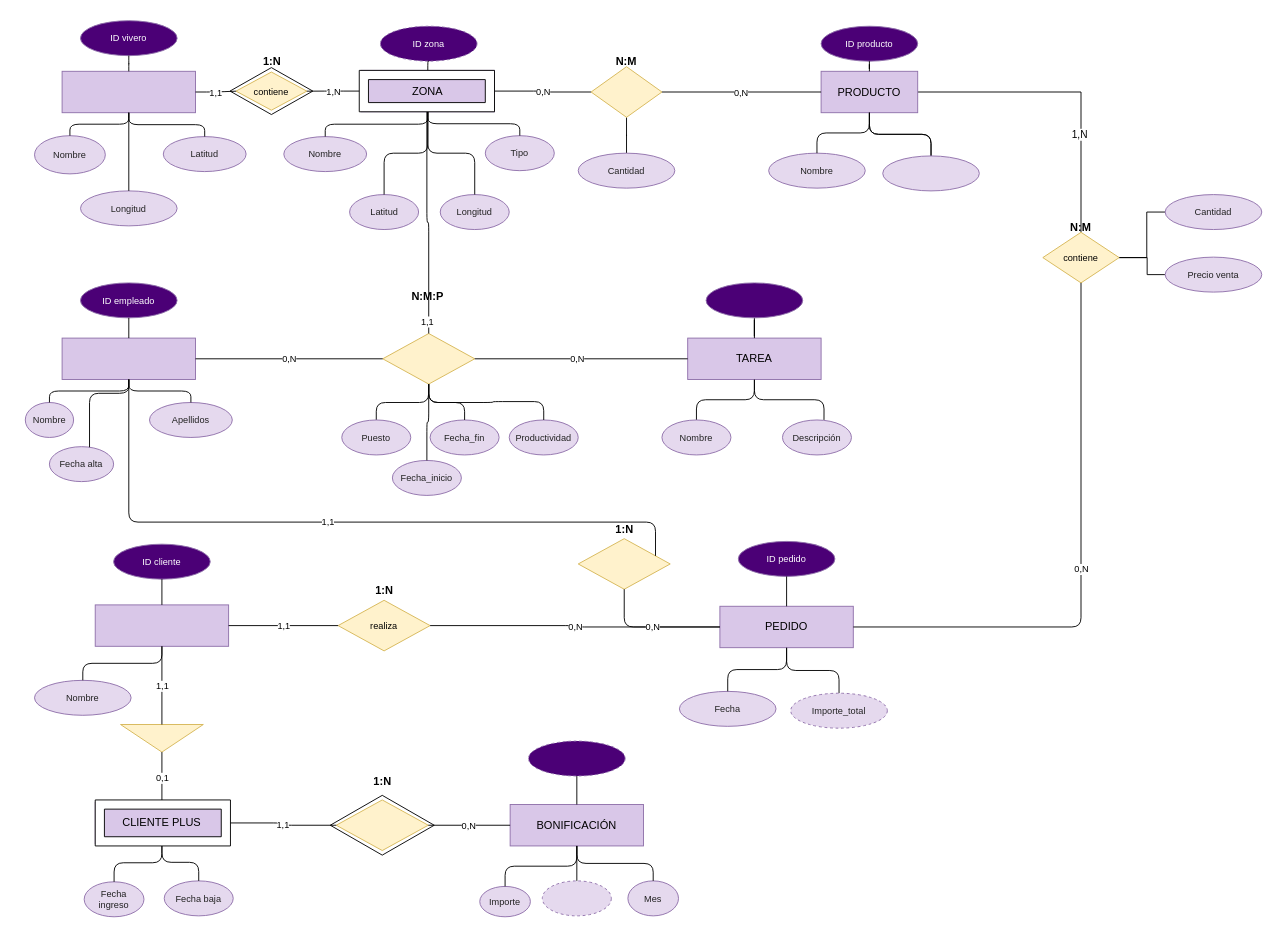
Image size: 1278x933. Some labels were removed from this diagram. The shapes that lost their labels are listed below. From the top down, each one's centre as x and y in pixels, then its label:
At pixel 128 91: "VIVERO".
At pixel 626 91: "tiene_stock".
At pixel 930 173: "Precio".
At pixel 754 300: "ID tarea".
At pixel 128 358: "EMPLEADO".
At pixel 428 358: "historico_destino".
At pixel 623 563: "gestiona".
At pixel 161 625: "CLIENTE".
At pixel 576 758: "ID bonificación".
At pixel 381 825: "recibe".
At pixel 576 898: "Volumen compra".
